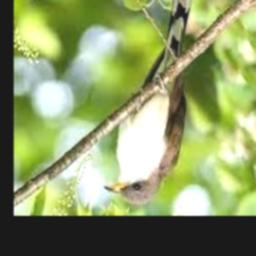Cuckoo: (105, 0, 197, 205)
